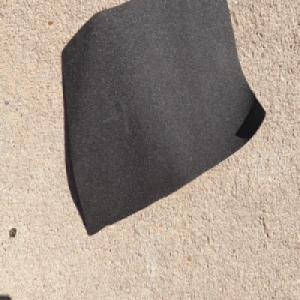PaintChip: (60, 0, 266, 239)
